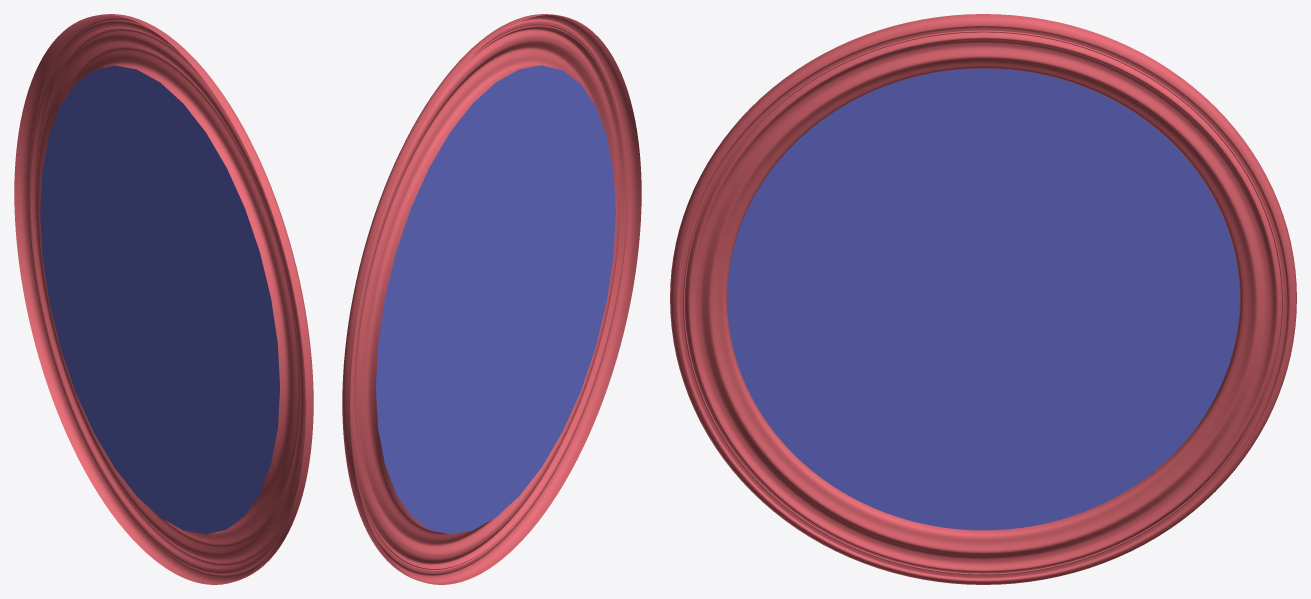
The model's file is Clock01.fbx.
The picture shows the model from 3 angles, left to right: view 1: azimuth 30°, elevation 25°; view 2: azimuth 150°, elevation 25°; view 3: azimuth 270°, elevation 25°; orthographic projection. The views are drawn at different scales.
Visible parts, largest first — view 1: Circle, Circle.001; view 2: Circle, Circle.001; view 3: Circle, Circle.001.
Boxes of the visible parts, bbox=[...] form: Circle: bbox=[40, 65, 279, 534]; Circle.001: bbox=[14, 14, 313, 584]; Circle: bbox=[376, 65, 615, 534]; Circle.001: bbox=[342, 14, 641, 584]; Circle: bbox=[727, 68, 1239, 530]; Circle.001: bbox=[670, 14, 1296, 584].
Size of the model in its own units: 35.88 by 1429 by 1429.
